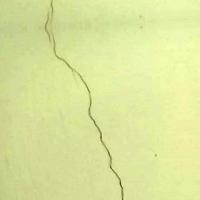crack: (33, 0, 135, 199)
